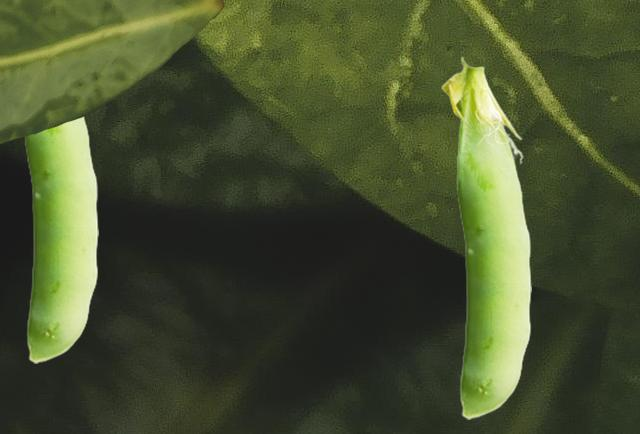pea: (441, 56, 530, 418), (22, 115, 97, 362)
